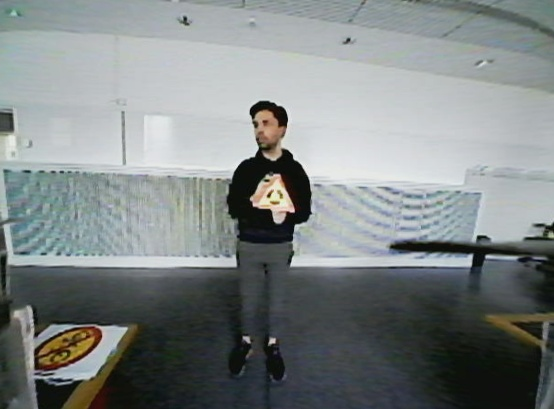roundabout_warning: (253, 171, 297, 217)
